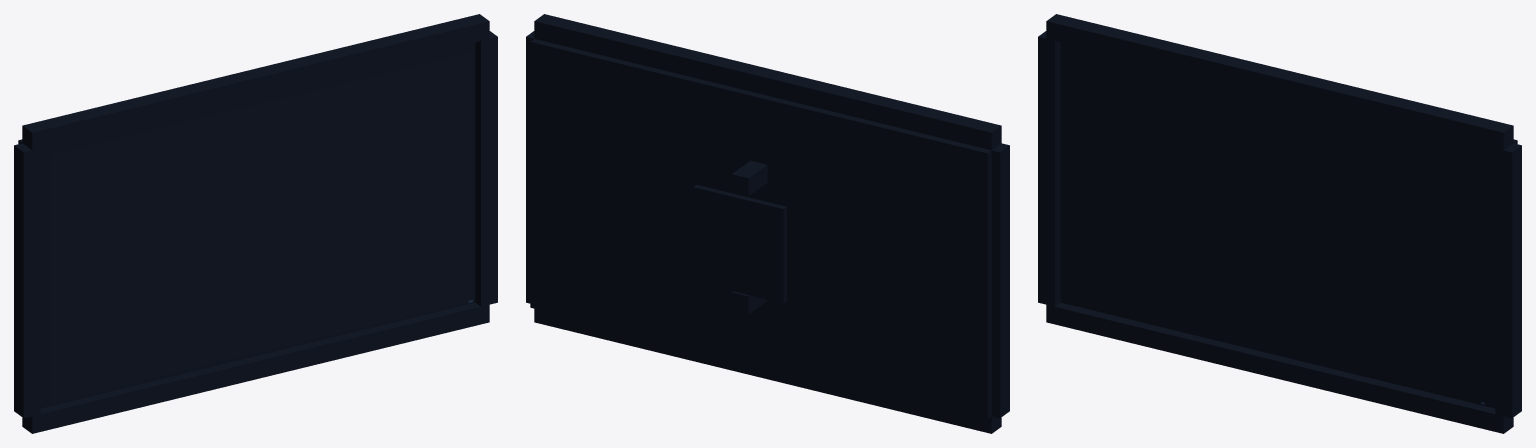
The model's file is siem_display_v01.glb.
3 views of the same model, side by side, from view 1: azimuth 30°, elevation 25°; view 2: azimuth 150°, elevation 25°; view 3: azimuth 330°, elevation 25° (orthographic).
Visible parts, largest first — view 1: screen, frame, back_panel; view 2: back_panel, frame, mount; view 3: screen, frame, back_panel.
Part boxes in pixels (x1,y1,x2,y2): screen: [49, 52, 472, 403]; frame: [14, 14, 497, 433]; back_panel: [18, 42, 475, 408]; back_panel: [530, 39, 991, 418]; frame: [526, 14, 1009, 433]; mount: [693, 160, 786, 314]; screen: [1063, 52, 1486, 403]; frame: [1038, 14, 1521, 433]; back_panel: [1060, 42, 1517, 408].
Size of the model in its own units: 1.68 by 1.02 by 0.216.
